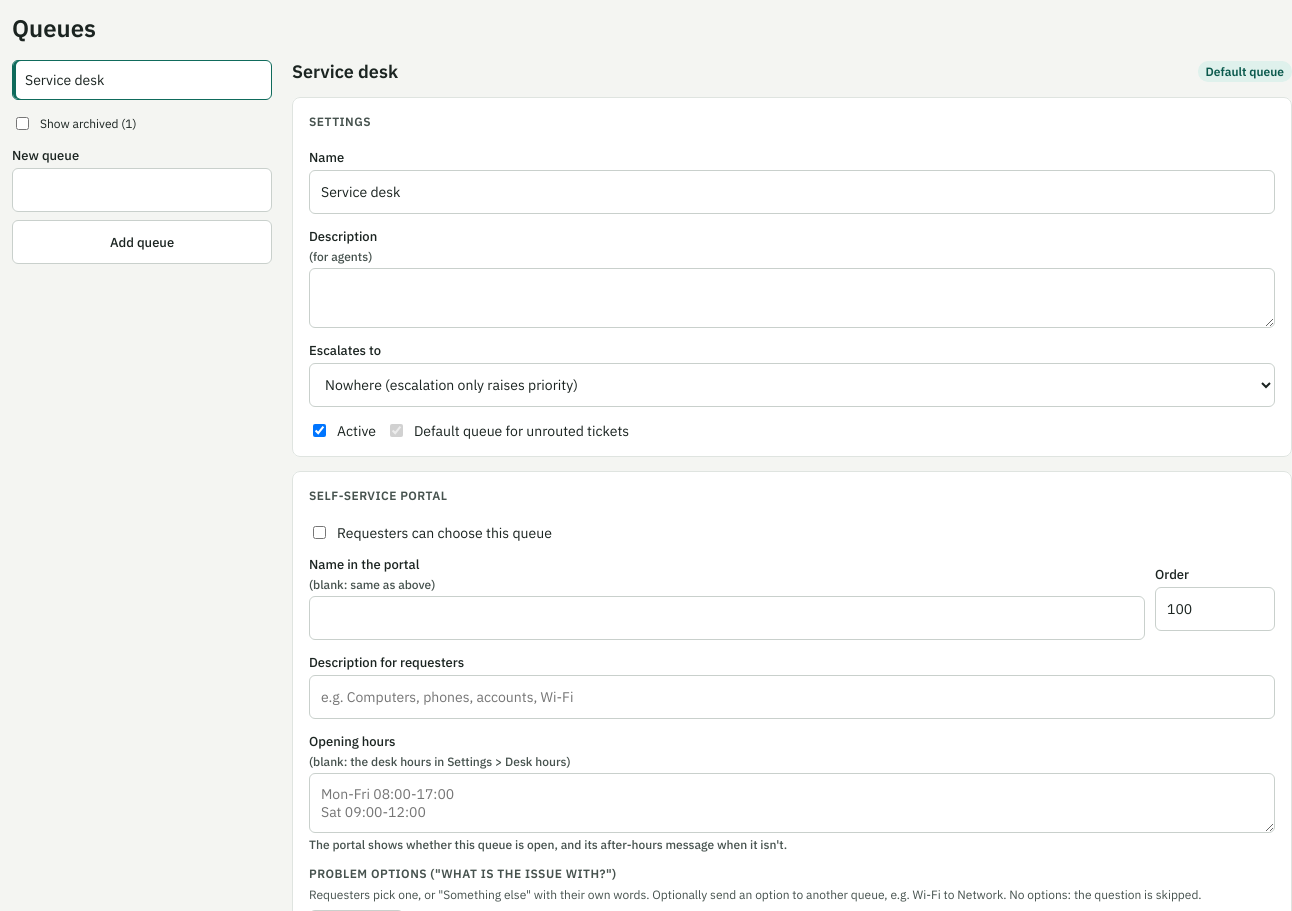
Scenario: archived queues are hidden until Show archived is ticked
Expected: the heading "Service desk" is shown, x1=292 y1=60 x2=398 y2=83
Expected: the button "Old projects" is not shown
What coordinates should you click on to do the following:
click the checkbox labelled "Show archived (1)"
I would click on:
 (22, 124)
Its box is x1=16 y1=117 x2=29 y2=130.
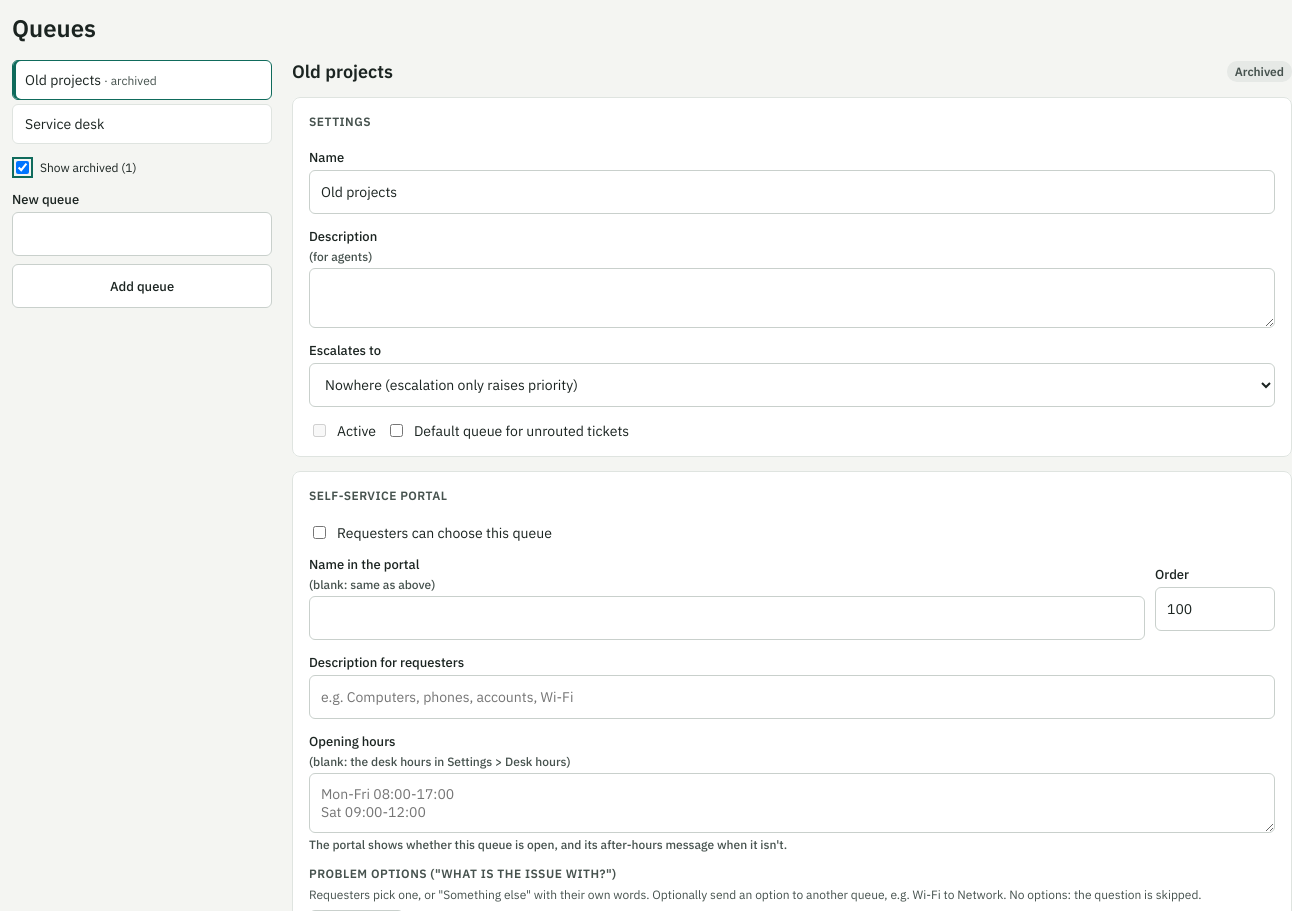
Result: the button "Old projects · archived" is shown at x1=12 y1=60 x2=272 y2=100
